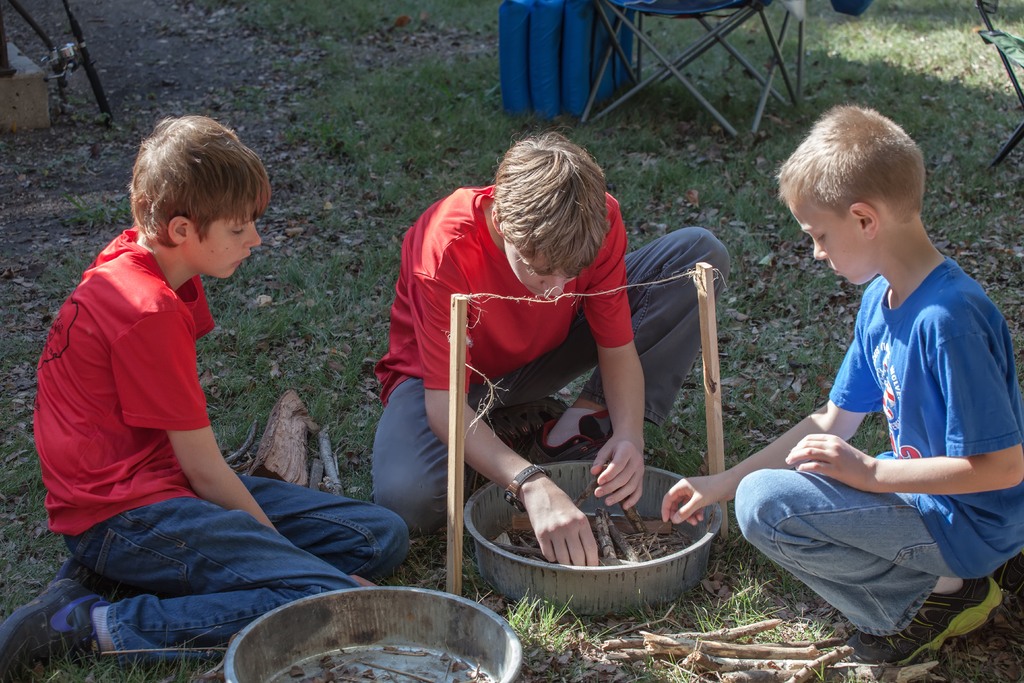face: (775, 111, 931, 284), (501, 207, 614, 300), (189, 189, 273, 278)
person: (2, 118, 400, 673), (655, 91, 1020, 641), (368, 135, 731, 556)
